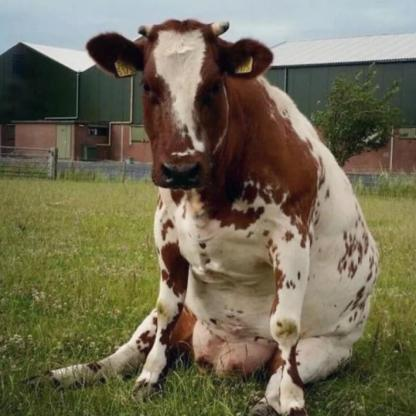cow: (47, 19, 376, 416)
